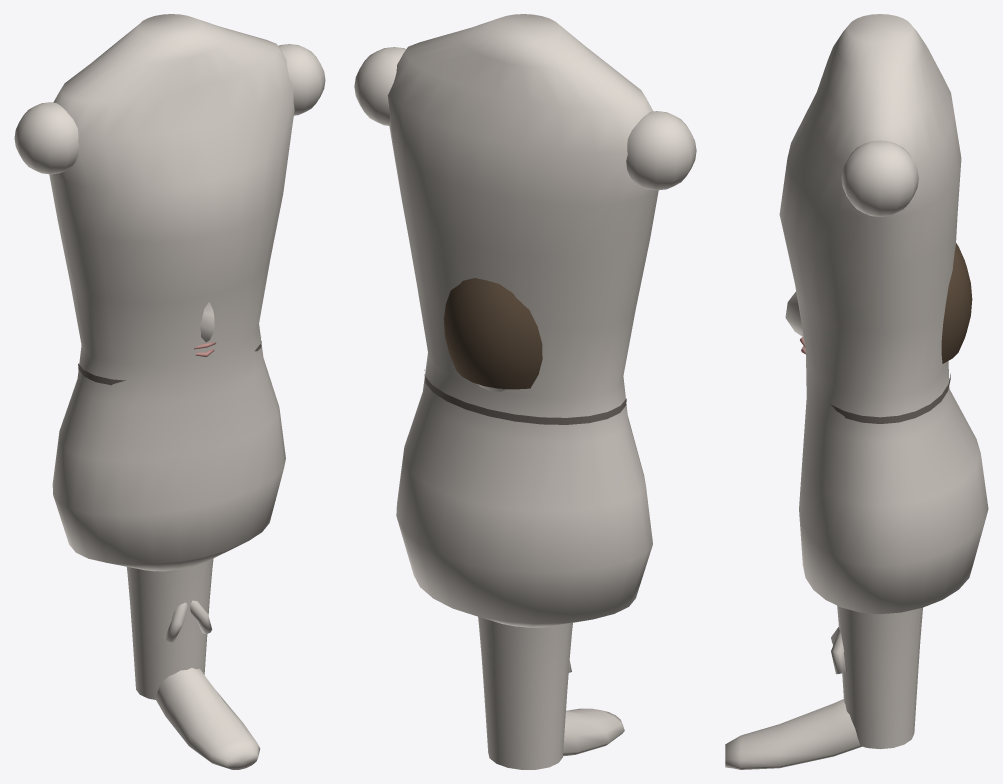
The model's file is mannequin.glb.
3 renders of one model, left to right at view 1: azimuth 30°, elevation 25°; view 2: azimuth 150°, elevation 25°; view 3: azimuth 270°, elevation 25°, orthographic. The views are drawn at different scales.
Parts seen in each view (by area): view 1: Torso, Thigh, Shin; view 2: Torso, Thigh, Hair, Shin; view 3: Torso, Thigh, Shin, Hair, Head.
Boxes of the visible parts, x1=… form: Torso: x1=14, y1=14, x2=325, y2=571; Thigh: x1=126, y1=558, x2=213, y2=699; Shin: x1=155, y1=668, x2=260, y2=769; Torso: x1=354, y1=14, x2=696, y2=627; Thigh: x1=478, y1=616, x2=572, y2=769; Hair: x1=443, y1=278, x2=542, y2=389; Shin: x1=563, y1=708, x2=624, y2=756; Torso: x1=779, y1=14, x2=988, y2=614; Thigh: x1=837, y1=605, x2=922, y2=749; Shin: x1=725, y1=699, x2=861, y2=769; Hair: x1=941, y1=243, x2=972, y2=363; Head: x1=785, y1=292, x2=803, y2=336.
Bounding box in the file's own units: 0.48 × 1.05 × 0.34.
